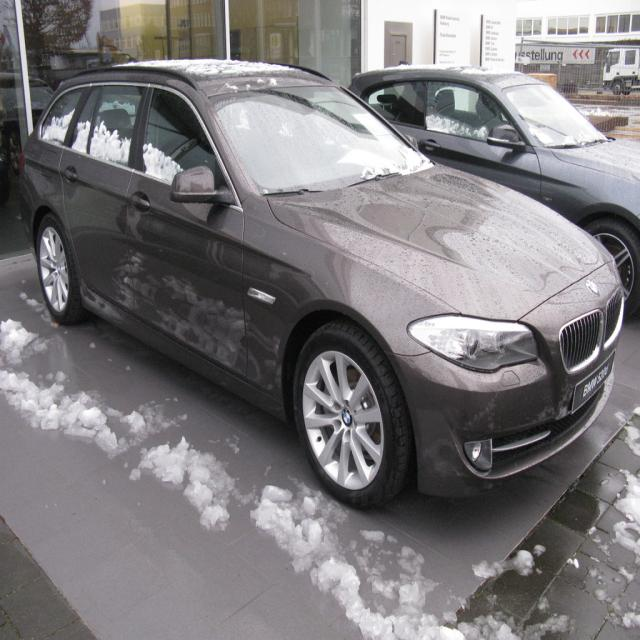car: (24, 62, 630, 510)
